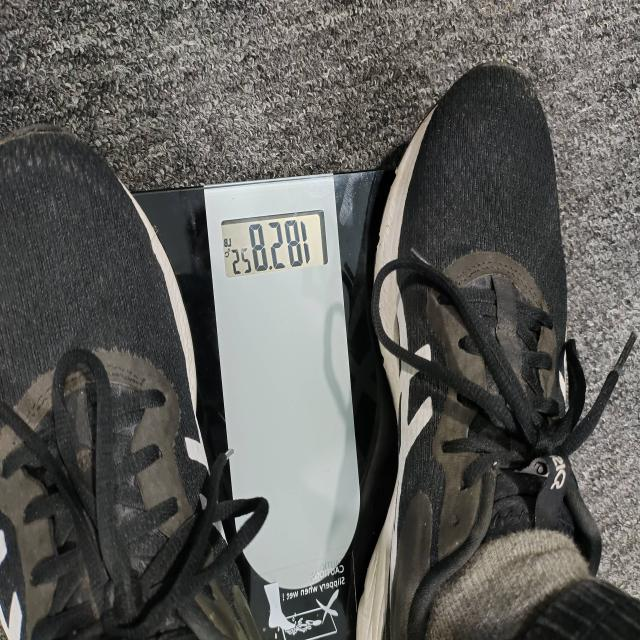ws: (127, 67, 560, 640)
